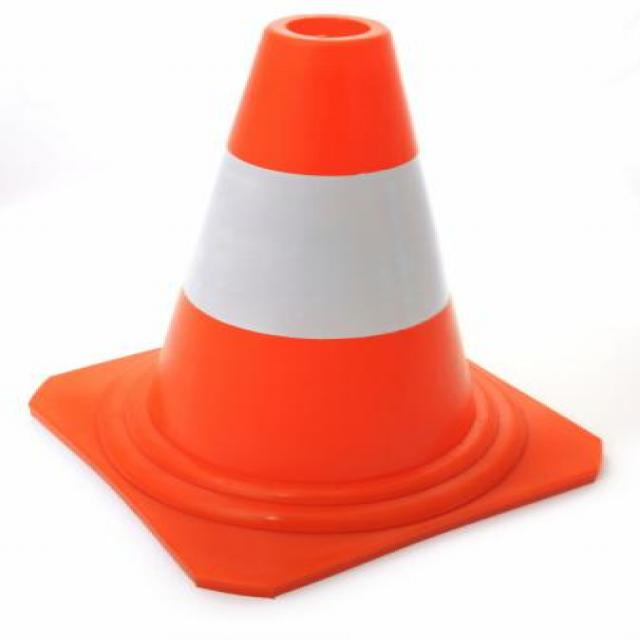Cone: (27, 13, 600, 583)
